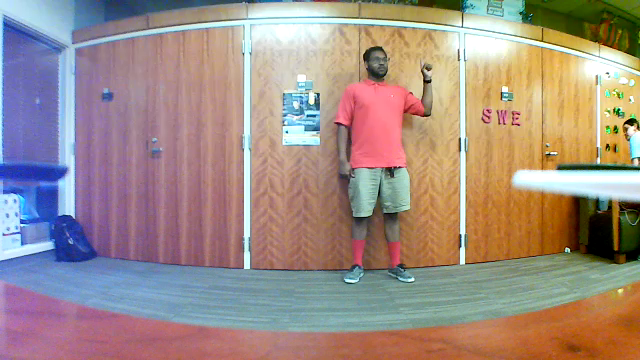up: (418, 53, 438, 84)
